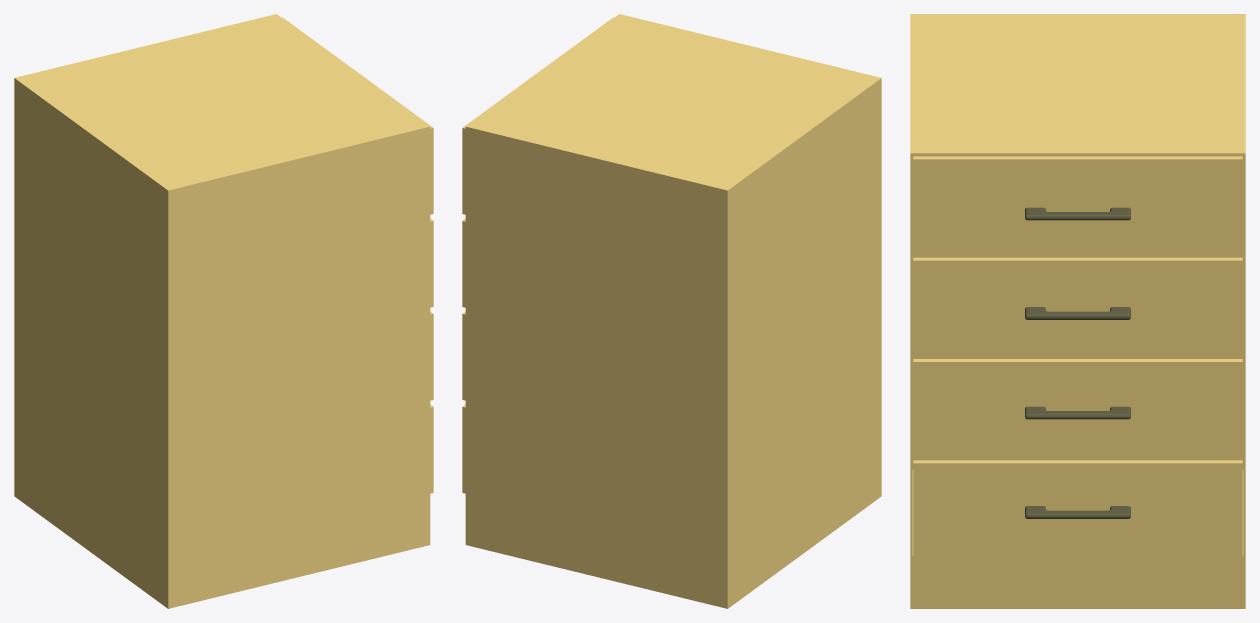
File: szafka1.1.glb
The picture shows the model from 3 angles, left to right: view 1: azimuth 30°, elevation 25°; view 2: azimuth 150°, elevation 25°; view 3: azimuth 270°, elevation 25°; orthographic projection. The views are drawn at different scales.
Visible parts, largest first — view 1: Cube.012, Cube.026; view 2: Cube.012, Cube.026; view 3: Cube.026, Cube.012, Plane.005.
Boxes of the visible parts, <box> form: Cube.012: <box>14,14,430,608</box>; Cube.026: <box>281,17,433,493</box>; Cube.012: <box>465,14,881,608</box>; Cube.026: <box>462,17,614,493</box>; Cube.026: <box>913,156,1242,556</box>; Cube.012: <box>910,14,1245,608</box>; Plane.005: <box>1025,207,1130,518</box>.
Bounding box in the file's own units: 0.6362 × 0.9 × 0.6.
